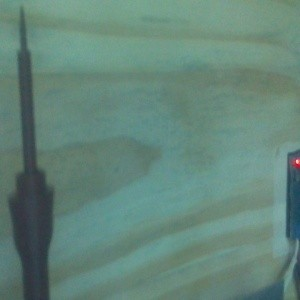solder: (6, 4, 56, 300)
